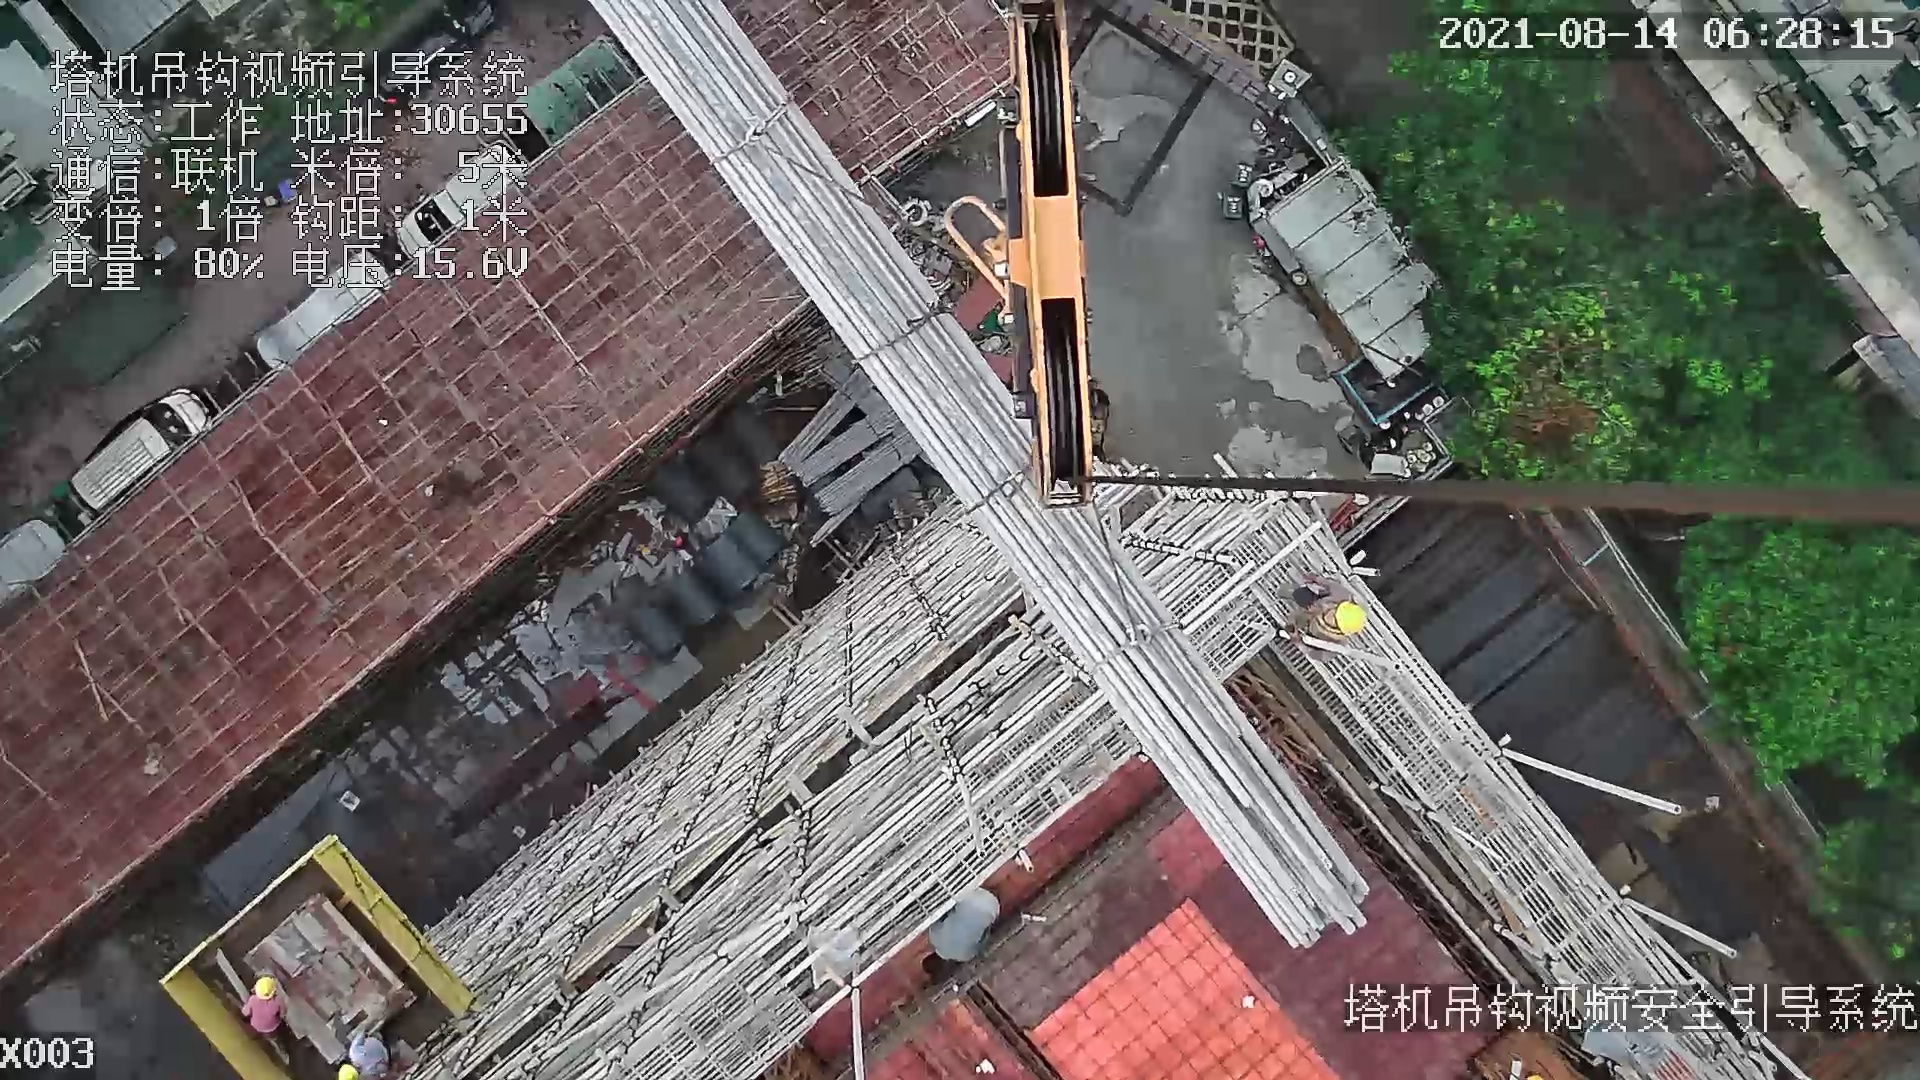helmet: (1327, 600, 1374, 643), (327, 1056, 359, 1080), (253, 978, 277, 1001)
hook: (993, 1, 1100, 513)
person: (1274, 573, 1371, 663), (244, 974, 291, 1036), (336, 1027, 391, 1080)
